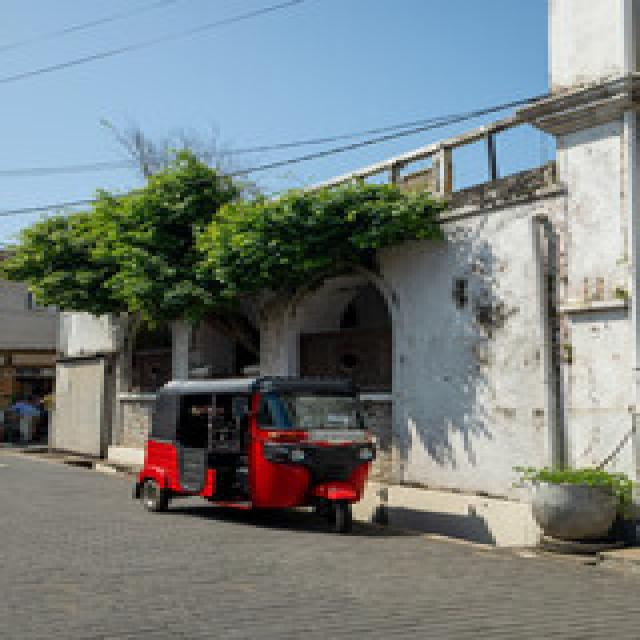three wheeler: (136, 376, 372, 531)
